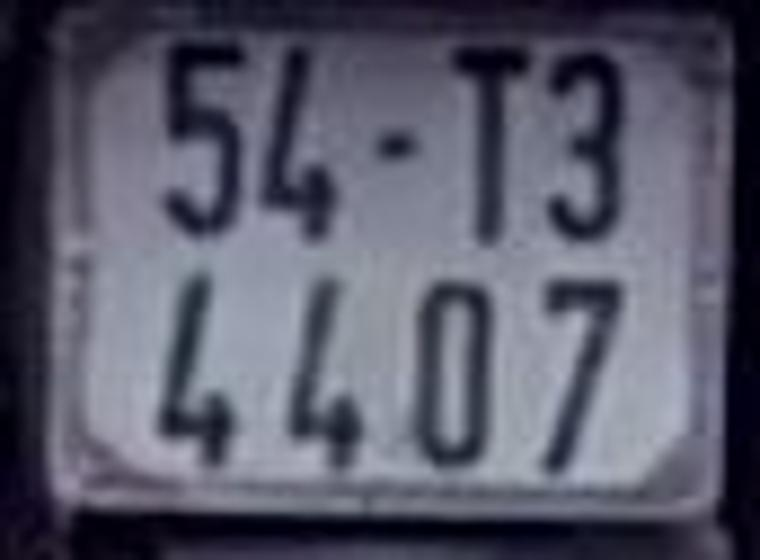-: (373, 134, 413, 153)
0: (414, 279, 489, 468)
3: (548, 47, 623, 240)
4: (286, 279, 364, 470), (157, 277, 232, 468), (262, 43, 333, 240)
5: (163, 43, 242, 235)
7: (543, 280, 625, 466)
T: (448, 44, 527, 247)
